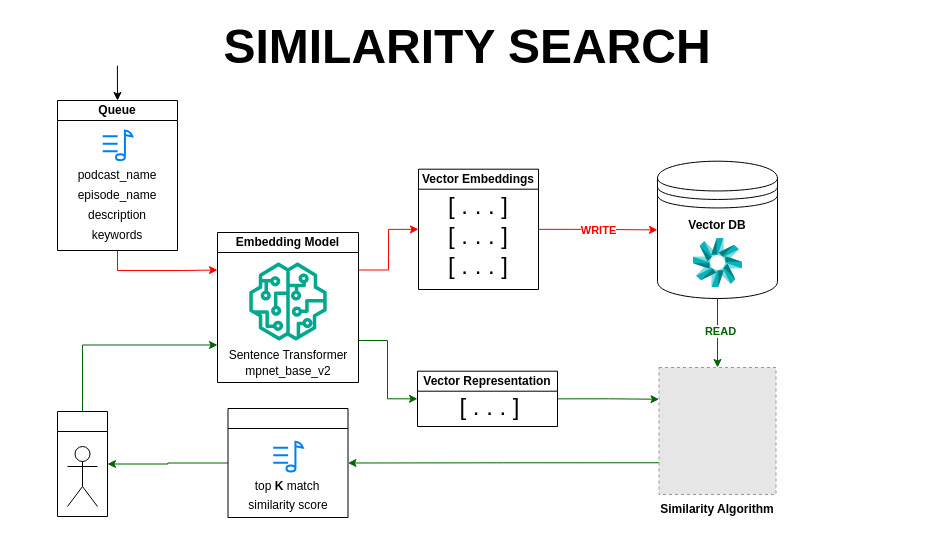
The diagram is 934 pixels wide and 541 high, and some of its shapes have lost their labels. Grey dashed boxes stand in for pictures. The box of each missing label's shape, as (x1, y1, x2, y2) in pixels:
Query: (56, 410, 108, 516)
Results: (227, 408, 348, 518)
